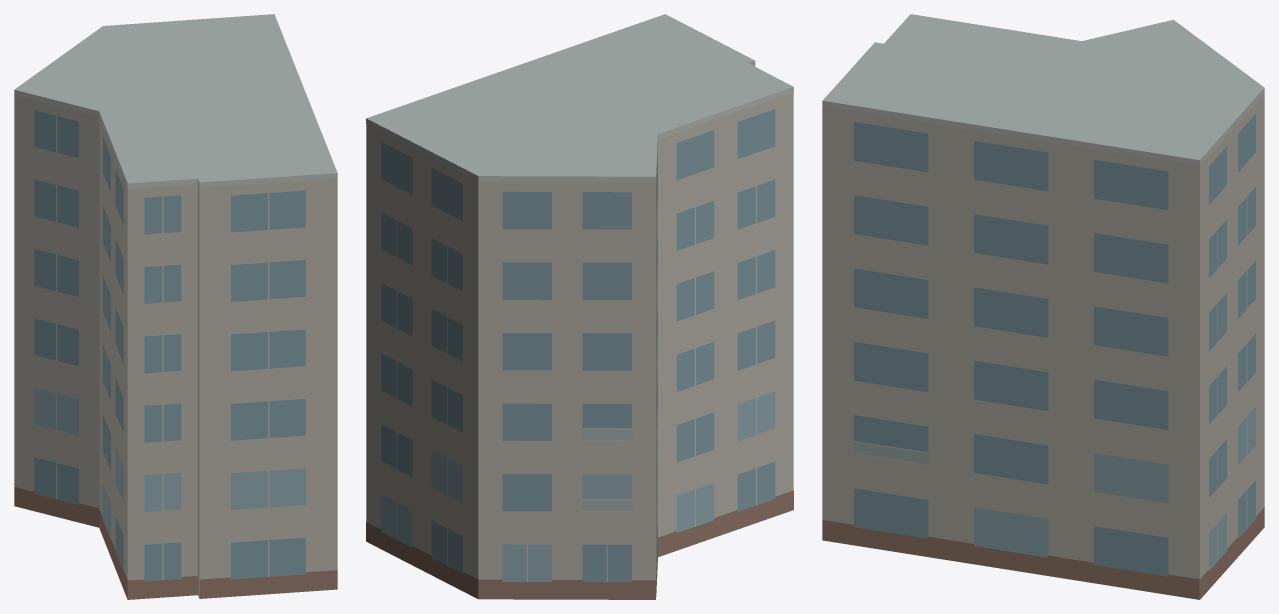
File: survey-upis-32933981.glb
3 renders of one model, left to right at view 1: azimuth 30°, elevation 25°; view 2: azimuth 150°, elevation 25°; view 3: azimuth 270°, elevation 25°, orthographic. The views are drawn at different scales.
Parts seen in each view (by area): view 1: survey-upis-32933981.tmp; view 2: survey-upis-32933981.tmp; view 3: survey-upis-32933981.tmp.
Part boxes in pixels (x1,y1,x2,y2): survey-upis-32933981.tmp: [14, 14, 337, 599]; survey-upis-32933981.tmp: [366, 14, 793, 599]; survey-upis-32933981.tmp: [822, 14, 1264, 599].
Size of the model in its own units: 13.06 by 18.3 by 16.69.
